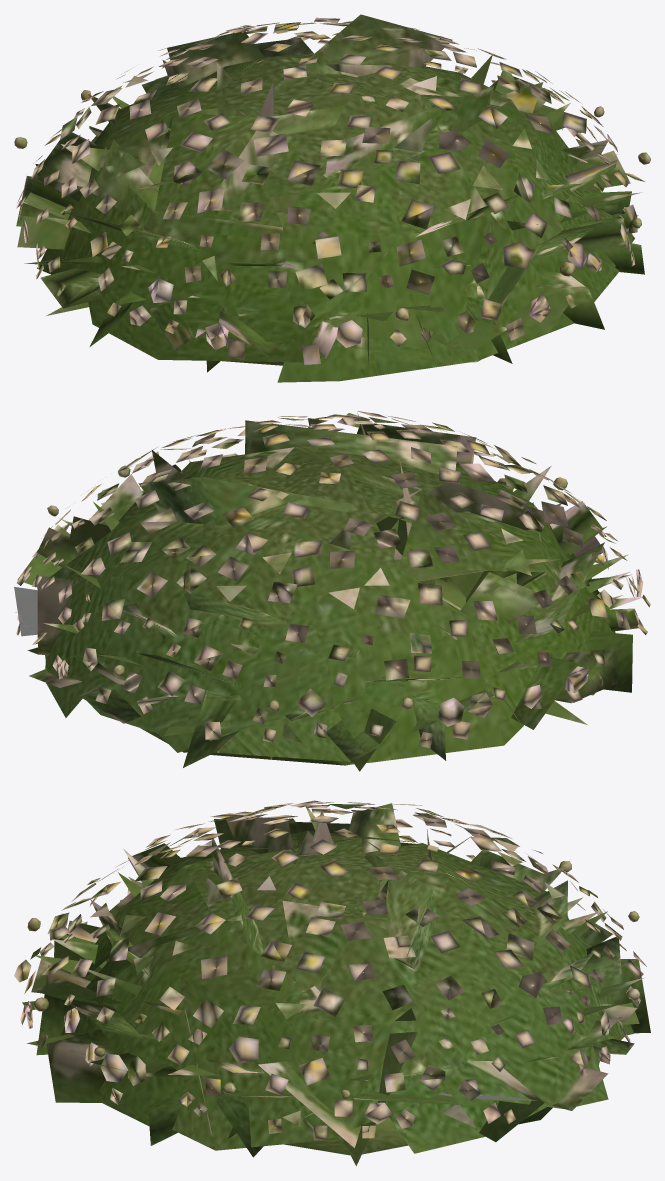
File: flower-cushion.glb
3 renders of one model, top to bottom at view 1: azimuth 30°, elevation 25°; view 2: azimuth 150°, elevation 25°; view 3: azimuth 270°, elevation 25°, orthographic.
Bounding box in the file's own units: 0.9409 × 0.33 × 0.9385.
1 material, 1 textured.
